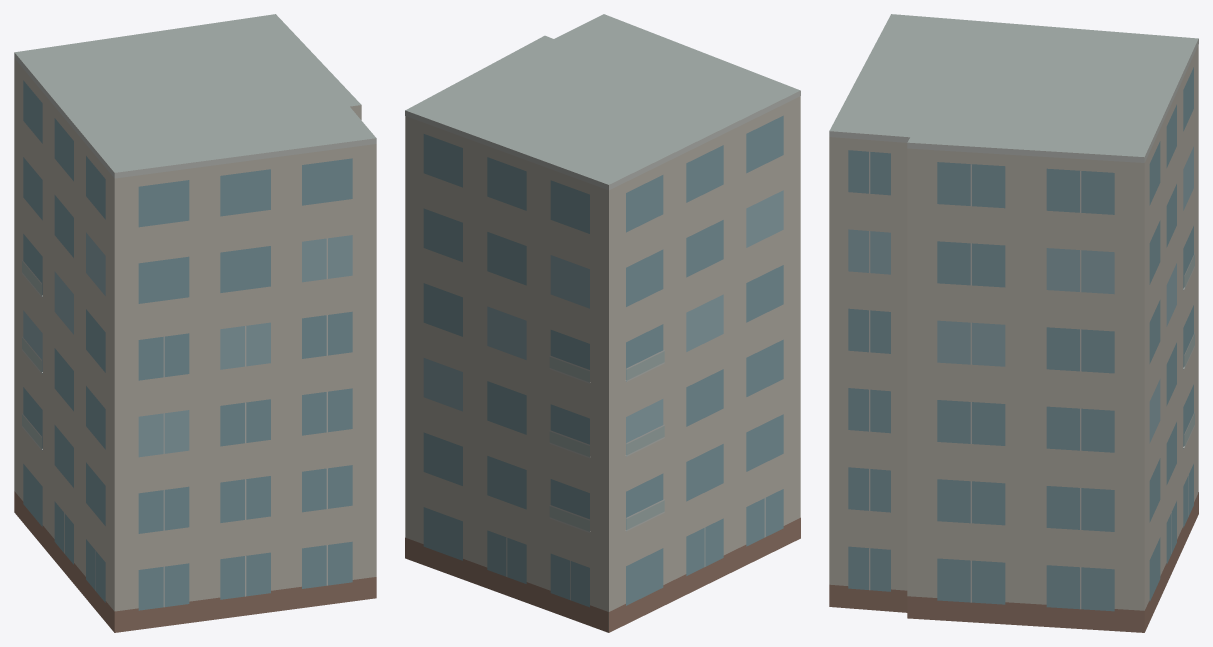
The model's file is survey-upis-33038525.glb.
The picture shows the model from 3 angles, left to right: view 1: azimuth 30°, elevation 25°; view 2: azimuth 150°, elevation 25°; view 3: azimuth 270°, elevation 25°; orthographic projection. The views are drawn at different scales.
Parts seen in each view (by area): view 1: survey-upis-33038525.tmp; view 2: survey-upis-33038525.tmp; view 3: survey-upis-33038525.tmp.
Part boxes in pixels (bbox=[...]): survey-upis-33038525.tmp: bbox=[14, 14, 376, 632]; survey-upis-33038525.tmp: bbox=[405, 14, 800, 632]; survey-upis-33038525.tmp: bbox=[829, 14, 1198, 632].
Bounding box in the file's own units: 12.78 × 19.78 × 13.93.
